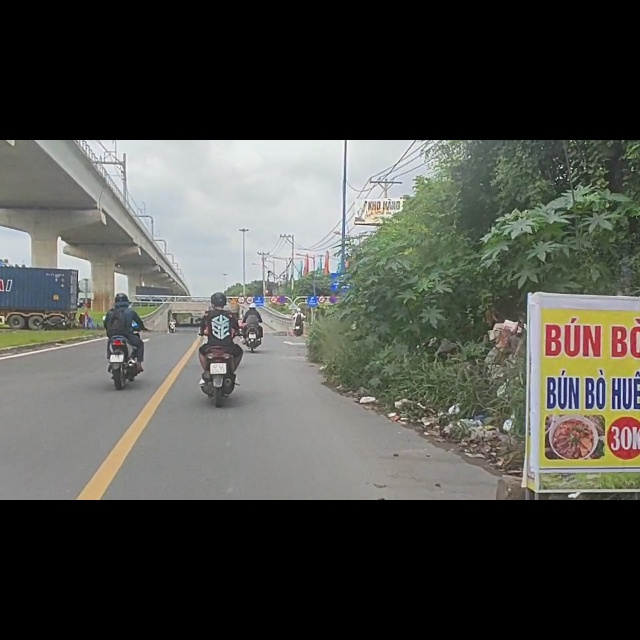bien_nguy_hiem: (317, 275, 326, 290), (329, 275, 337, 290), (237, 276, 245, 290), (246, 276, 254, 290), (269, 276, 277, 290), (279, 276, 286, 289)
